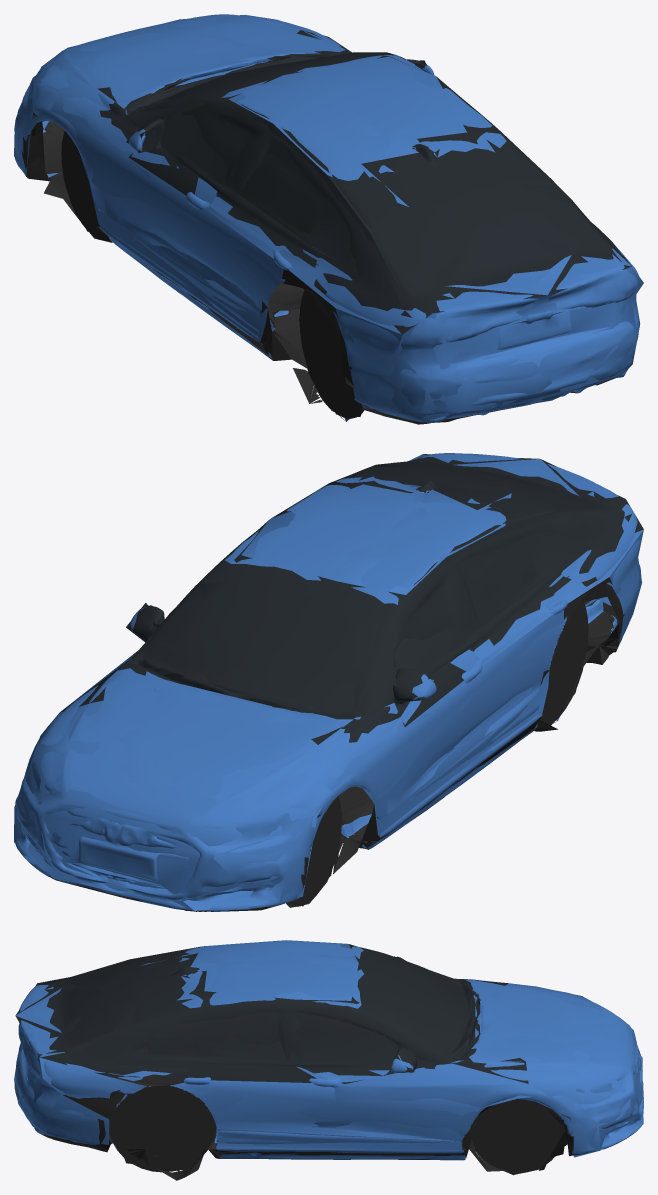
Rendered from audi-a8.glb.
3 renders of one model, top to bottom at view 1: azimuth 30°, elevation 25°; view 2: azimuth 150°, elevation 25°; view 3: azimuth 270°, elevation 25°, orthographic. The views are drawn at different scales.
Visible parts, largest first — view 1: body, far; view 2: body, far; view 3: body, far.
Boxes of the visible parts, box(x1,y1,x2,y2) form: body: box(14, 14, 639, 424); far: box(14, 15, 643, 421); body: box(15, 453, 641, 911); far: box(14, 454, 643, 910); body: box(14, 941, 643, 1180); far: box(14, 940, 643, 1175).
Size of the model in its own units: 2.16 by 1.6 by 5.37.
